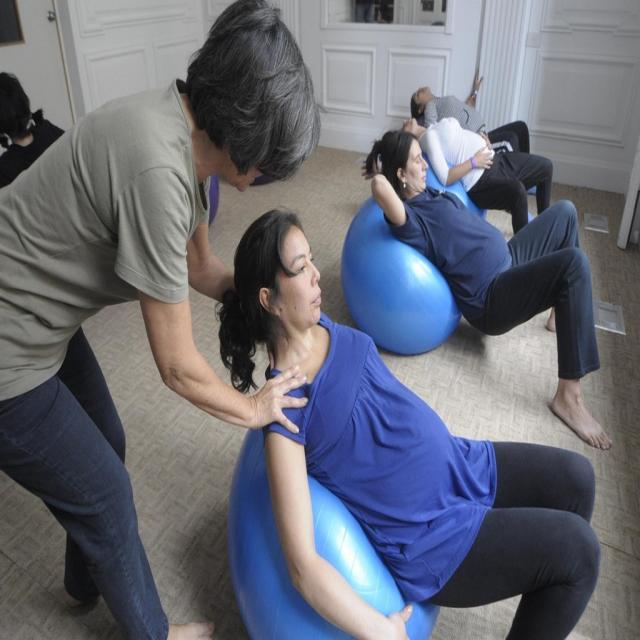Ball: (227, 428, 442, 638), (338, 194, 462, 358), (419, 153, 490, 223)
